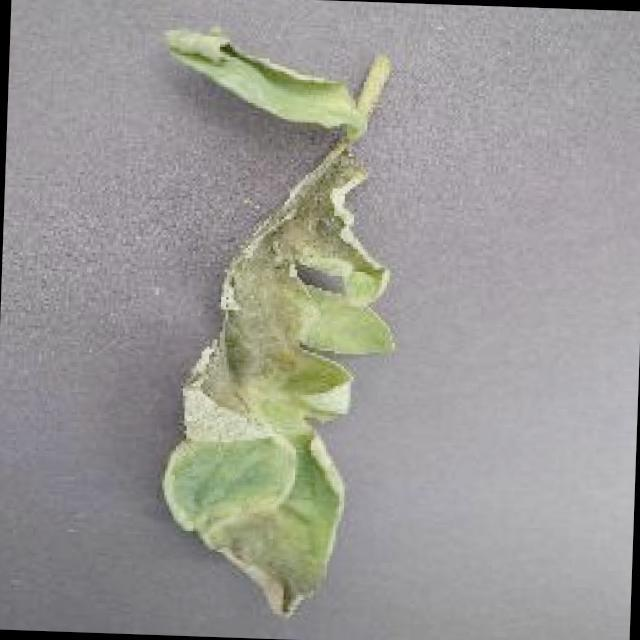Tomato late blight leaf: (160, 132, 402, 620), (160, 26, 350, 127)
